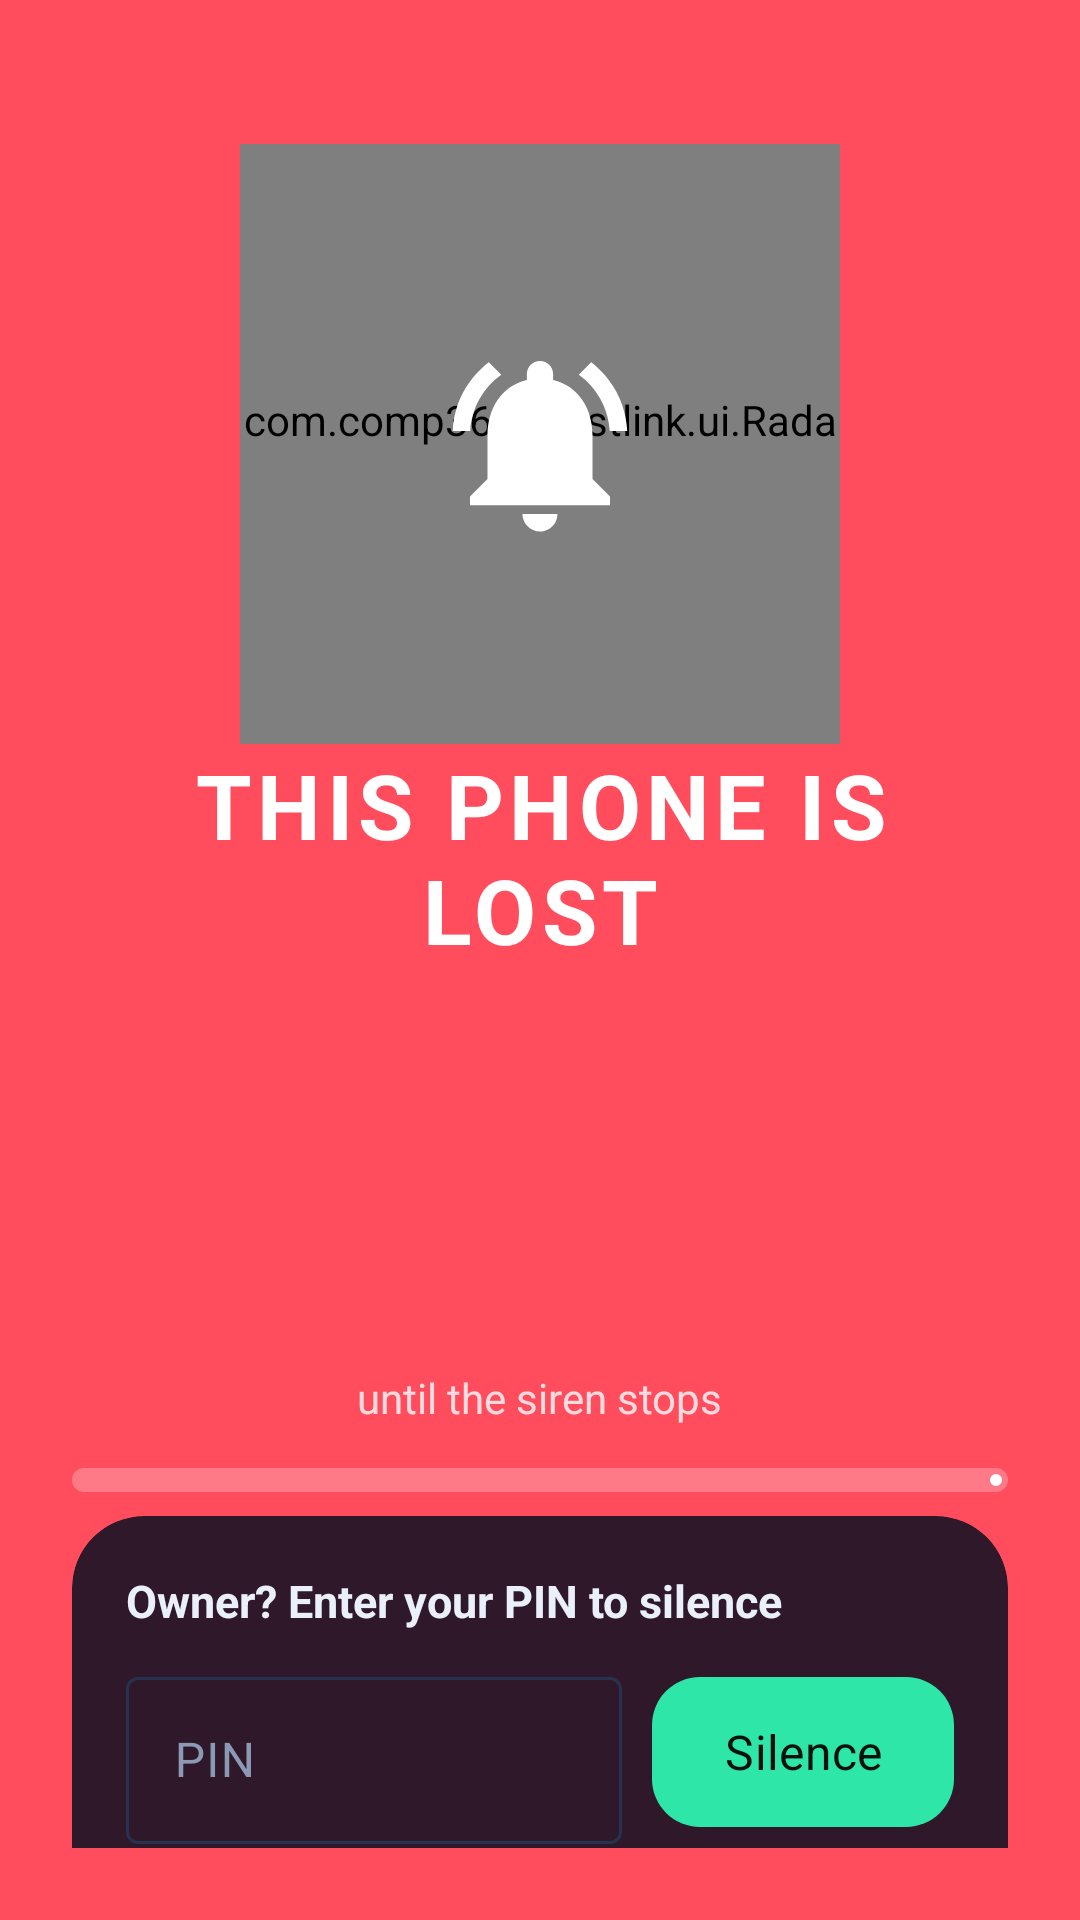

Where to tap for icons on this 1080*1920 app screen, as point (x, y):
ring: point (543, 446)
